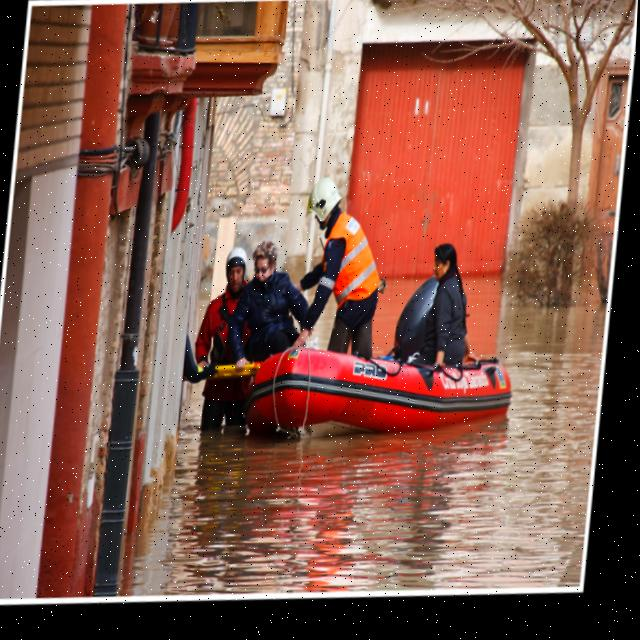civilian: (225, 229, 323, 374), (409, 237, 492, 375)
rescuer: (291, 170, 392, 362), (186, 241, 265, 440)
